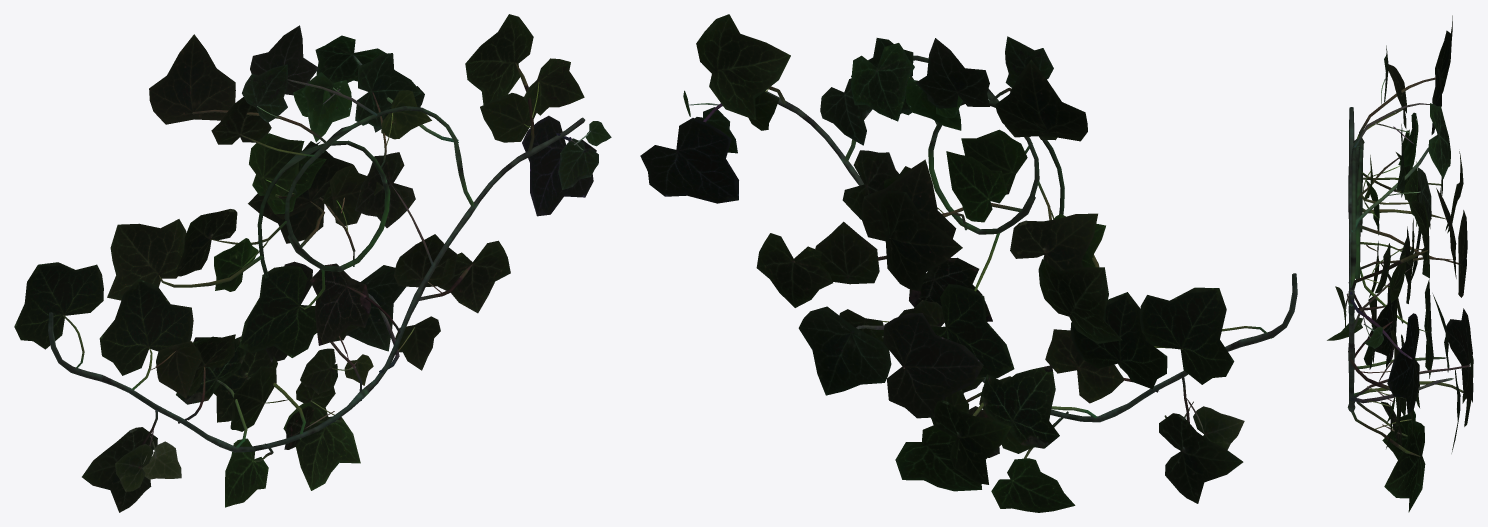
Rendered from vine2.glb.
3 renders of one model, left to right at view 1: azimuth 30°, elevation 25°; view 2: azimuth 150°, elevation 25°; view 3: azimuth 270°, elevation 25°, orthographic. The views are drawn at different scales.
Parts seen in each view (by area): view 1: _4jaq_VarF_LOD1; view 2: _4jaq_VarF_LOD1; view 3: _4jaq_VarF_LOD1.
Part boxes in pixels (left/top/right/bottom): _4jaq_VarF_LOD1: left=14, top=14, right=611, bottom=512; _4jaq_VarF_LOD1: left=640, top=14, right=1297, bottom=512; _4jaq_VarF_LOD1: left=1327, top=15, right=1473, bottom=512.
Bounding box in the file's own units: 0.5919 × 0.4388 × 0.1342.
Materials: 1 (1 with a texture image).
